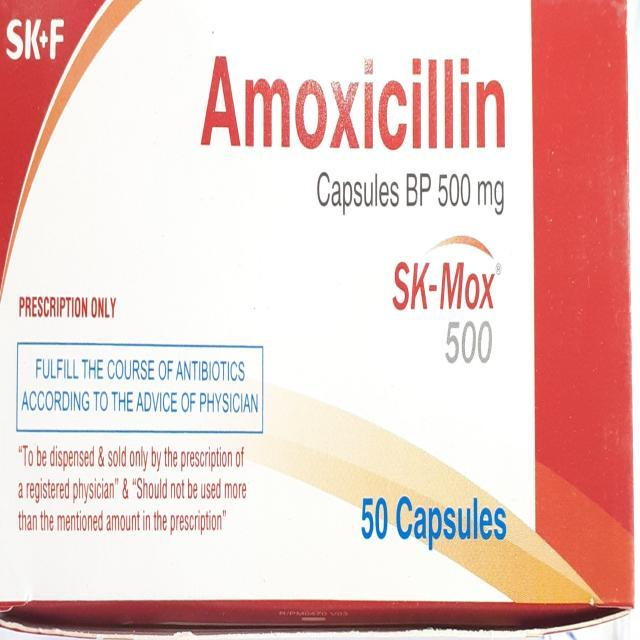drug-name: (196, 48, 508, 162)
